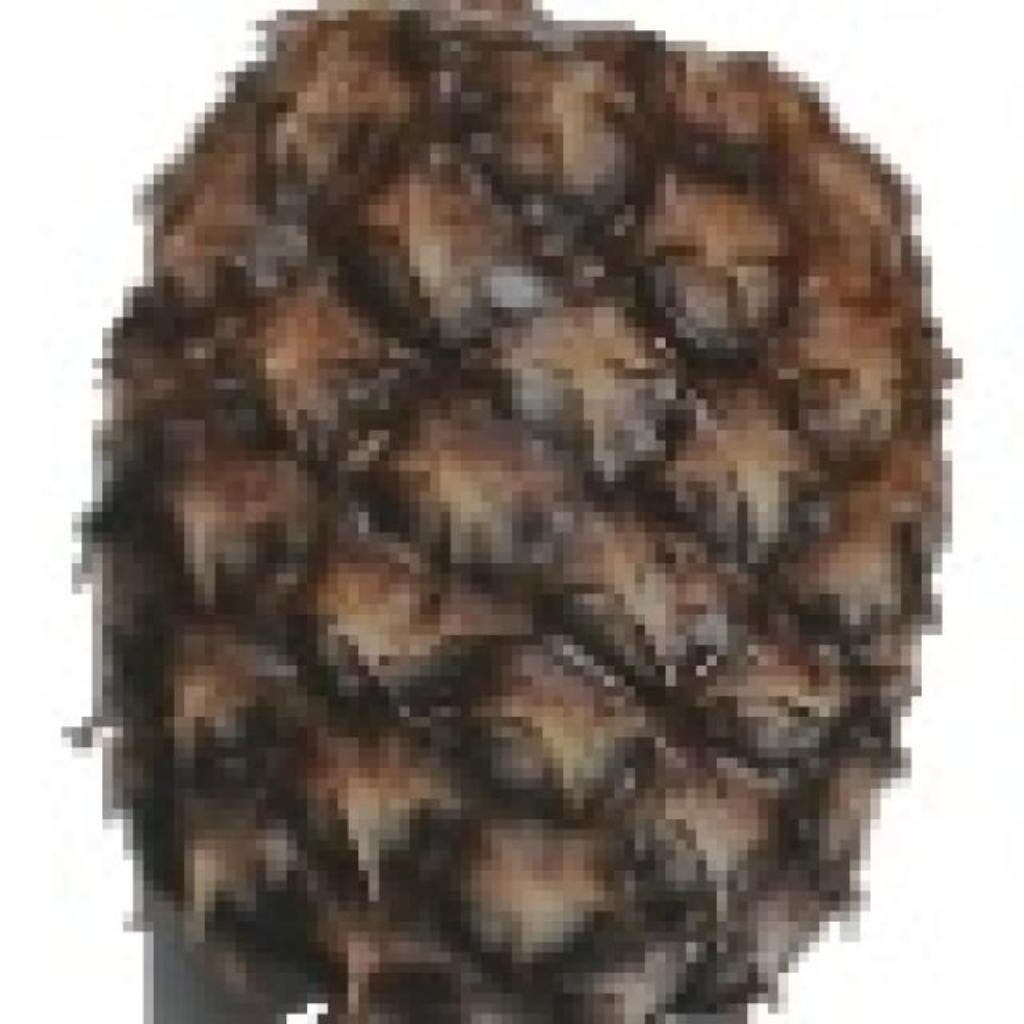pineapple: (82, 0, 954, 1023)
